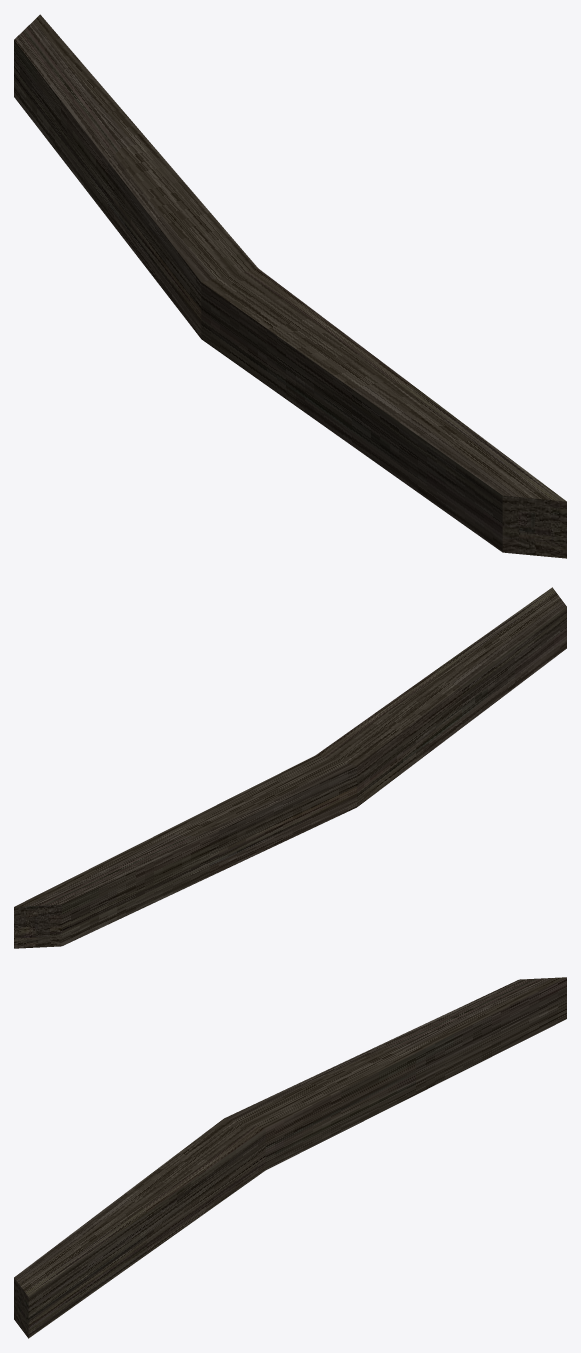
Rendered from stick.glb.
The picture shows the model from 3 angles, top to bottom: view 1: azimuth 30°, elevation 25°; view 2: azimuth 150°, elevation 25°; view 3: azimuth 330°, elevation 25°; orthographic projection. The views are drawn at different scales.
Visible parts, largest first — view 1: stick; view 2: stick; view 3: stick.
Part boxes in pixels (left/top/right/bottom): stick: left=14, top=14, right=566, bottom=558; stick: left=14, top=587, right=566, bottom=948; stick: left=14, top=977, right=566, bottom=1338.
Bounding box in the file's own units: 0.2909 × 0.1032 × 2.07.
1 material, 1 textured.
